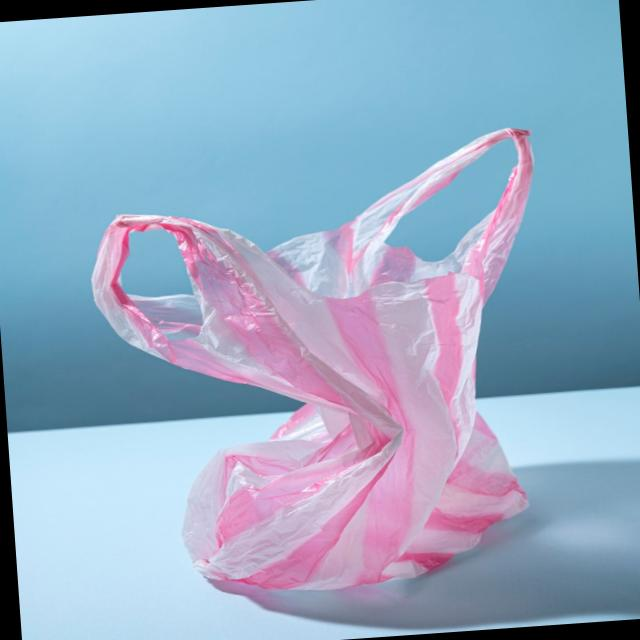plastic_bag: (78, 110, 558, 602)
